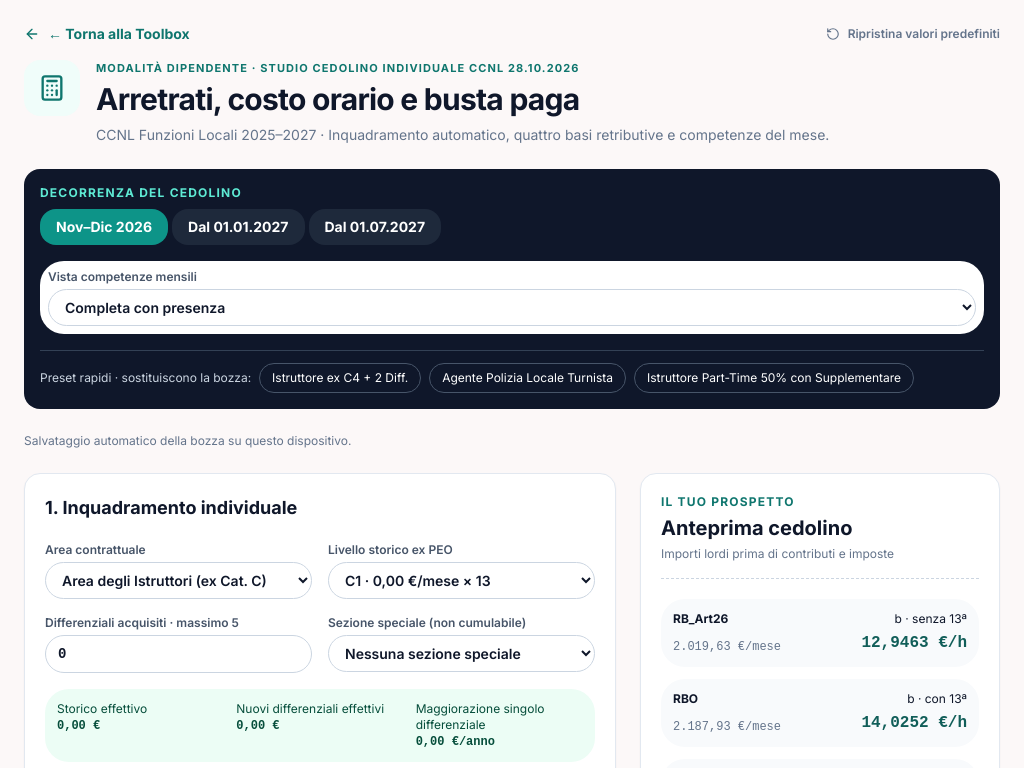
it: Simulatore individuale · interazioni › cambio area filtra livelli e sezioni; multi-tranche segnala vuoti di servizio
Select "Area dei Funzionari e dell’Elevata Qualificazione (ex Cat. D)" in the dropdown labelled "Area contrattuale". click: (178, 580)
box: 45,562 -> 312,598
(page scrolled)
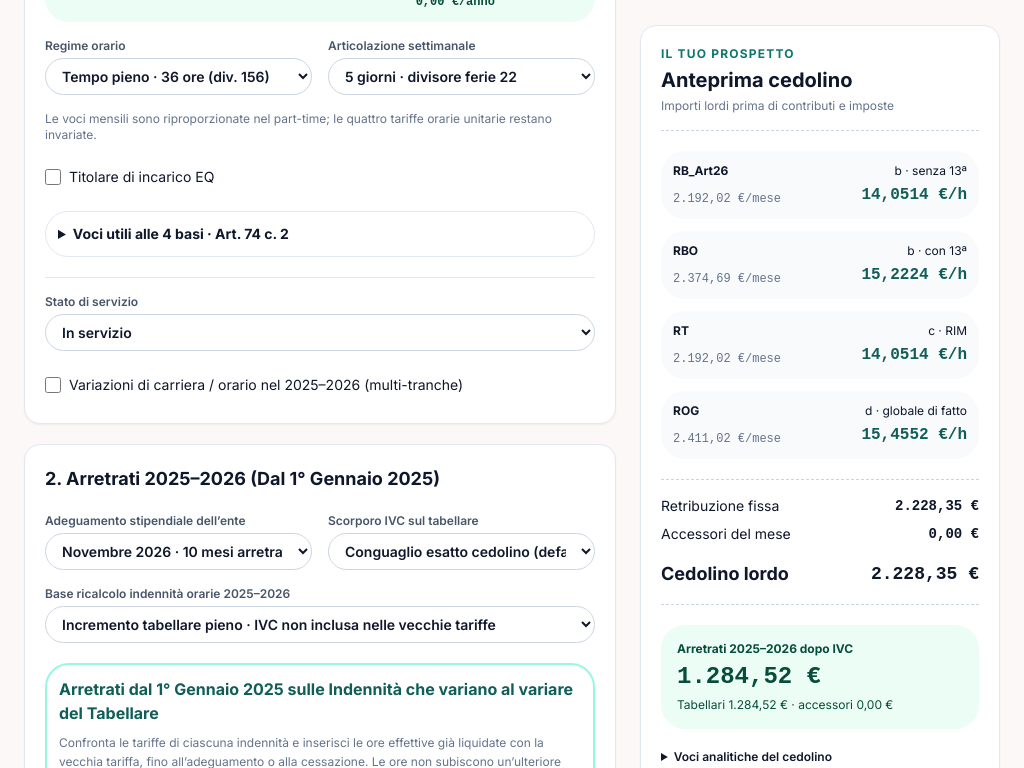
Click the checkbox labelled "multi-tranche". click: (53, 384)
box: 45,376 -> 61,392
(page scrolled)
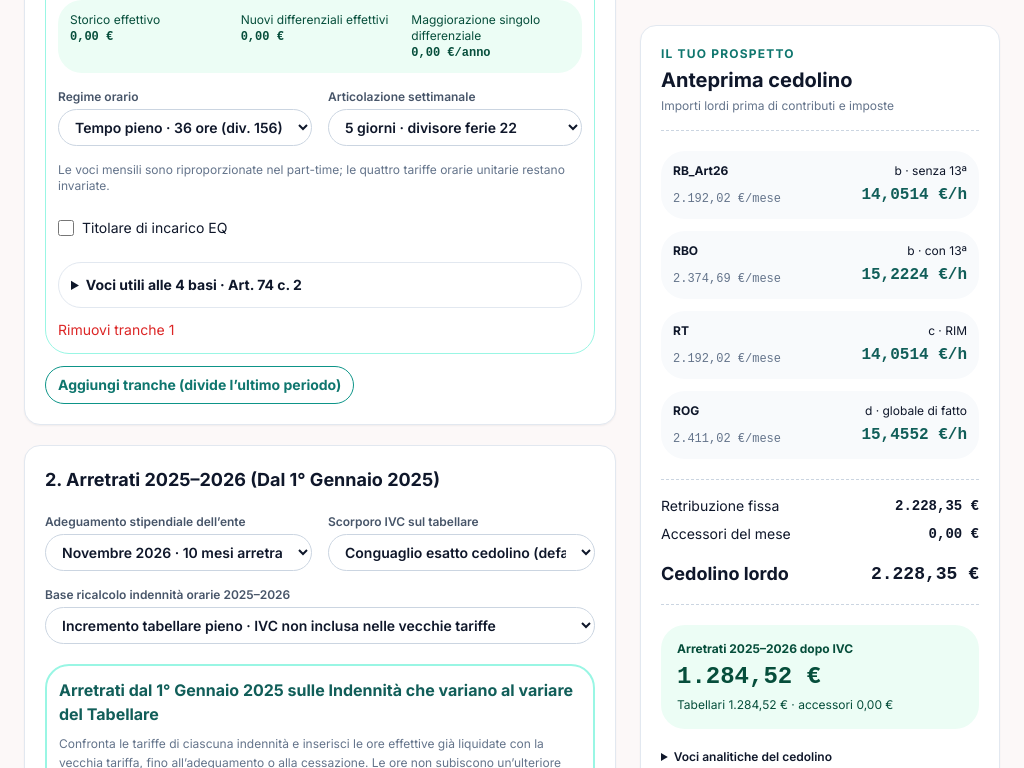
Click the button "Aggiungi tranche (divide l’ultimo periodo)". click: (200, 384)
box: 45,366 -> 354,404
(page scrolled)
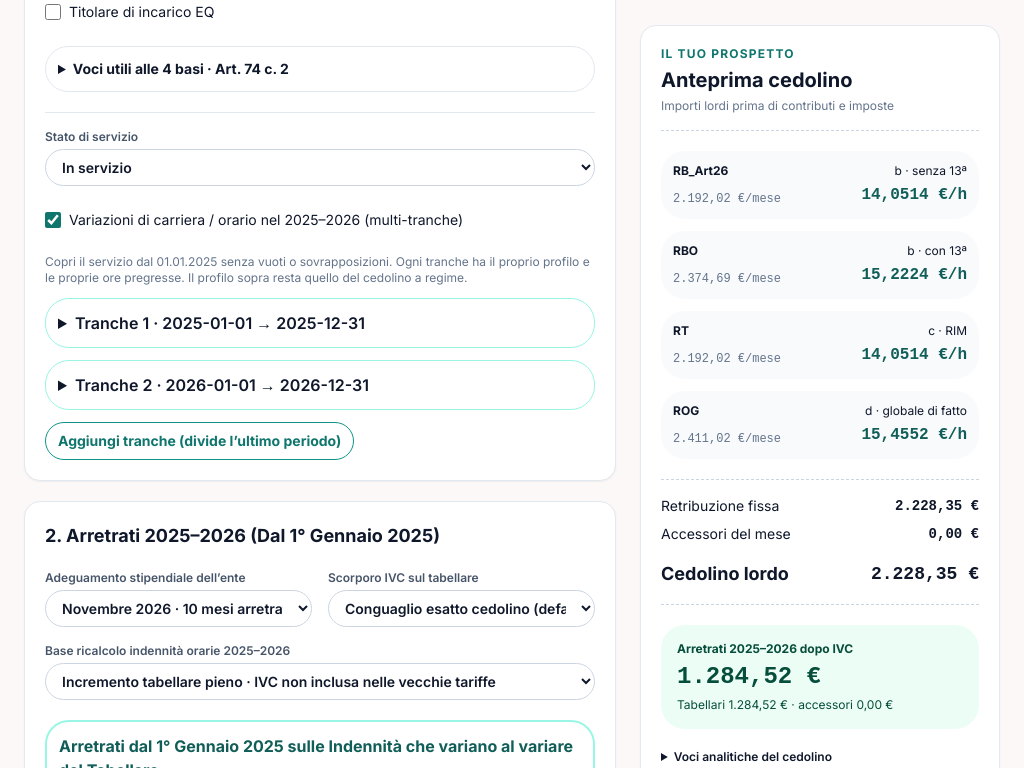
Type "2026-09-01" into the date field named "Dal". click: (320, 384)
box: 45,360 -> 595,410
(page scrolled)
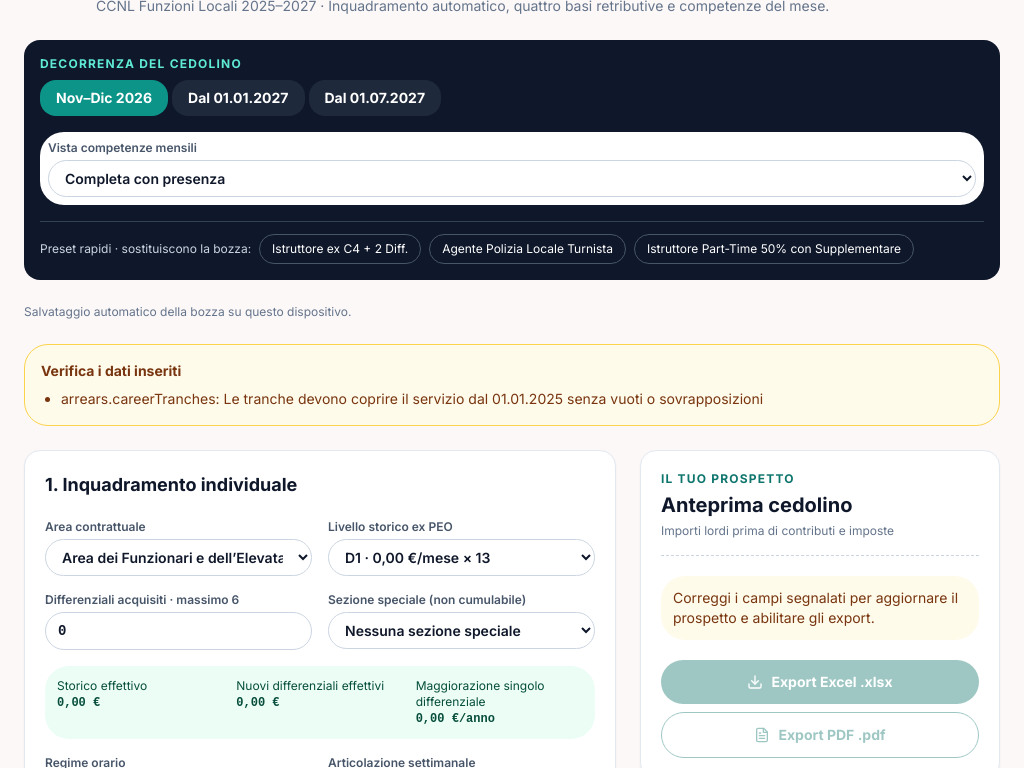
Result: the message that starts with "Verifica i dati inseriti" shows "senza vuoti o sovrapposizioni" at 61,390 -> 763,406
